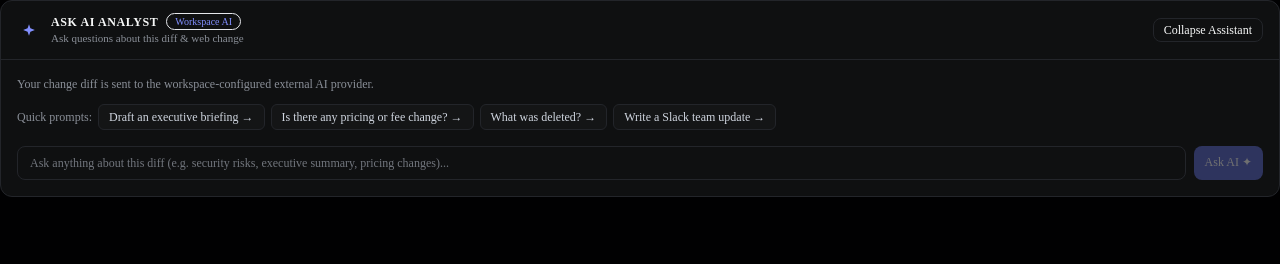
Scenario: DiffAiAssistant › surfaces a rate-limit error and stops loading
Replace the text in the field with placeholder "Ask anything about this diff" with "Summarise this": (601, 162) [17,146,1186,180]
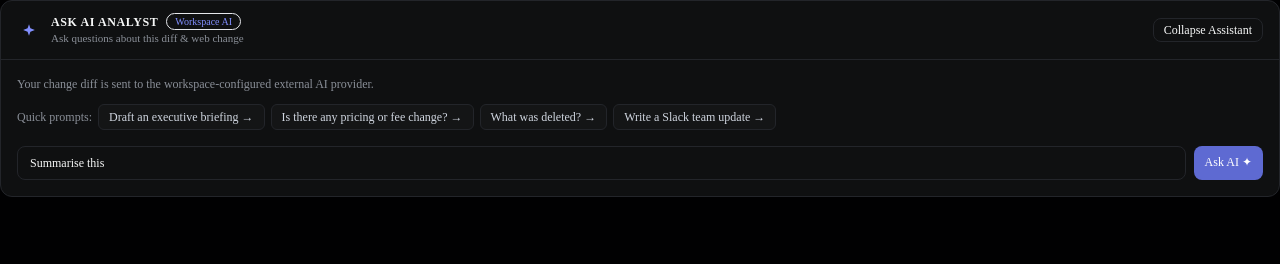
Click the button "Ask AI ✦": (1228, 162) [1194,146,1263,180]
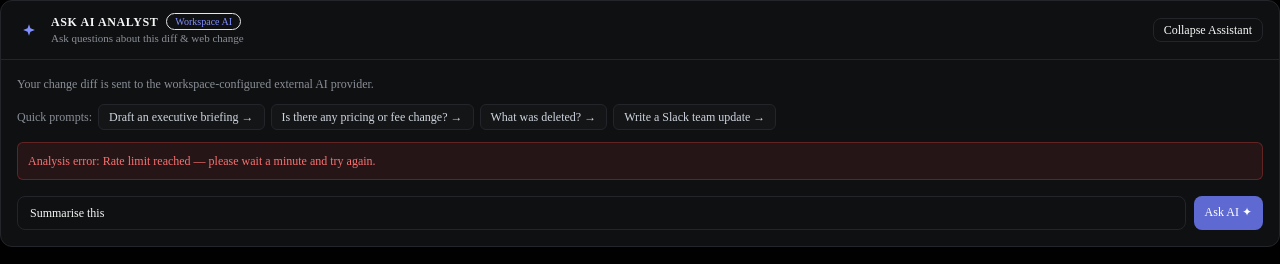
expect the text "Rate limit reached — please wait a minute" is shown: met, box [103,154,376,168]
